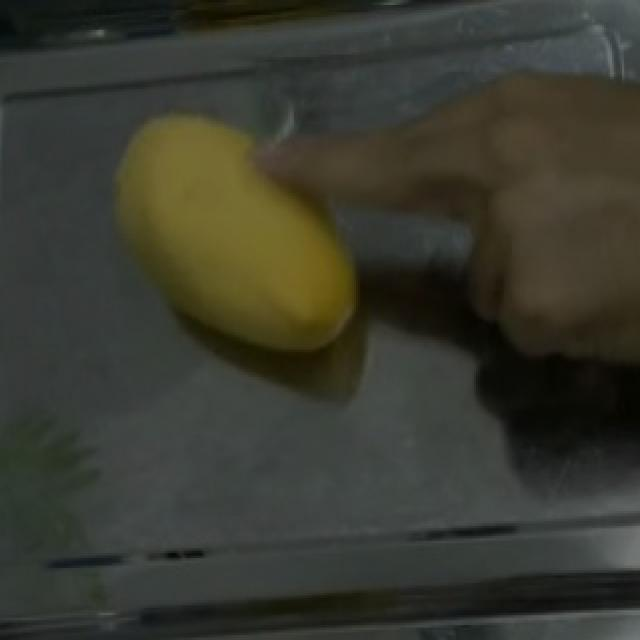fruit: (92, 79, 382, 377), (450, 45, 640, 382)
